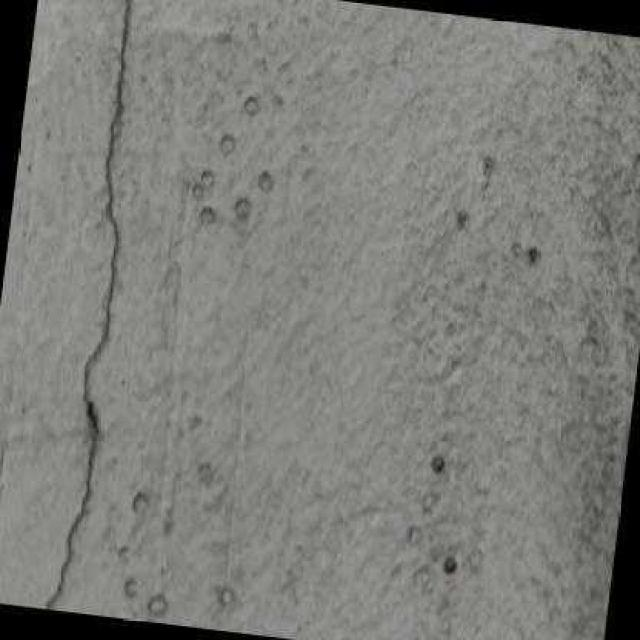D00: (44, 0, 133, 609)
